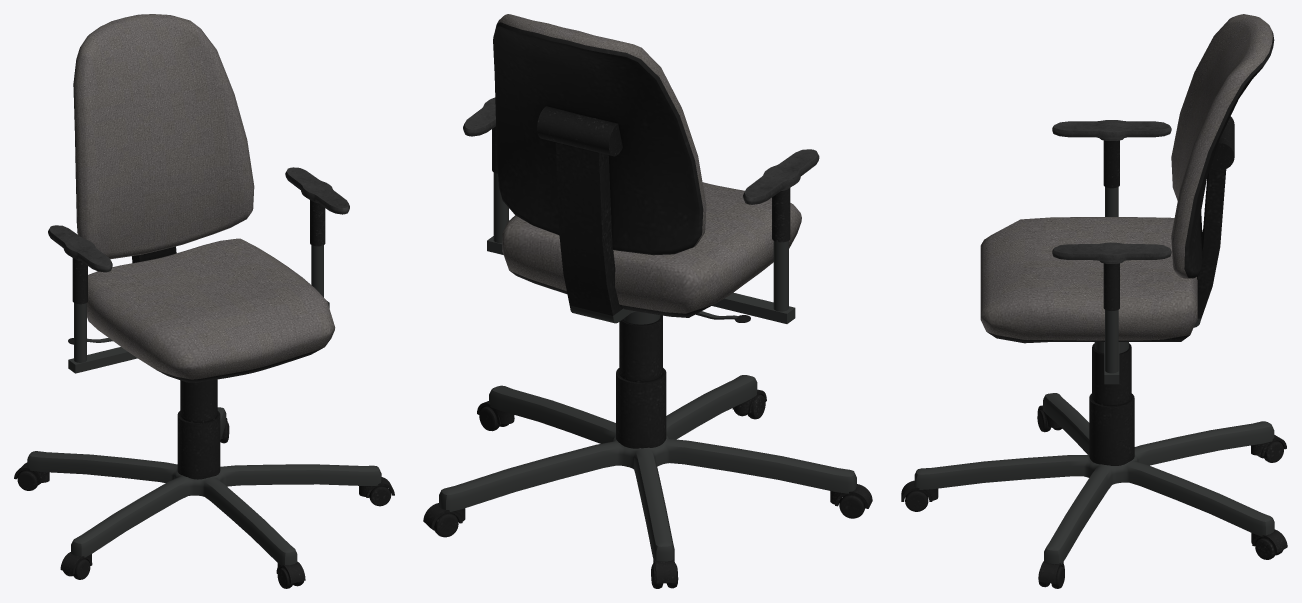
The model's file is core-office-chair.glb.
3 renders of one model, left to right at view 1: azimuth 30°, elevation 25°; view 2: azimuth 150°, elevation 25°; view 3: azimuth 270°, elevation 25°, orthographic. The views are drawn at different scales.
Visible parts, largest first — view 1: OfficeChair (×4); view 2: OfficeChair (×4); view 3: OfficeChair (×4).
Part boxes in pixels (x1,y1,x2,y2): OfficeChair (×4): [14, 14, 394, 588]; OfficeChair (×4): [423, 14, 872, 588]; OfficeChair (×4): [901, 14, 1287, 588].
Bounding box in the file's own units: 232 × 300 × 221.
Materials: 4 (4 with a texture image).
